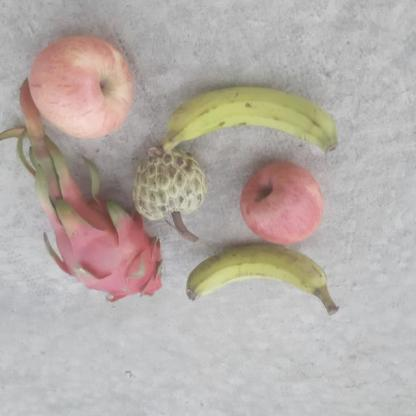annona: (132, 146, 211, 220)
apple: (27, 35, 137, 138), (238, 157, 326, 245)
banana: (152, 85, 338, 156), (186, 244, 339, 314)
pitaya: (42, 187, 166, 306)
